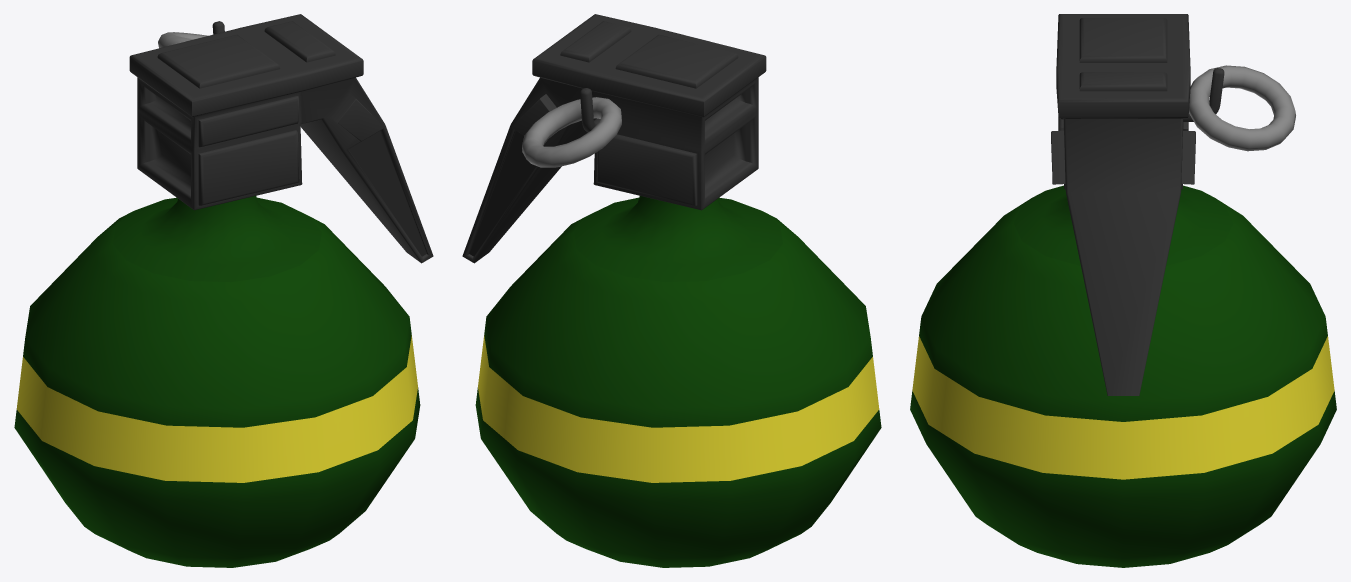
The model's file is nade.fbx.
The picture shows the model from 3 angles, left to right: view 1: azimuth 30°, elevation 25°; view 2: azimuth 150°, elevation 25°; view 3: azimuth 270°, elevation 25°; orthographic projection. The views are drawn at different scales.
Visible parts, largest first — view 1: Cylinder.023; view 2: Cylinder.023; view 3: Cylinder.023.
Part boxes in pixels (bbox=[...]): Cylinder.023: bbox=[14, 14, 433, 567]; Cylinder.023: bbox=[462, 14, 881, 567]; Cylinder.023: bbox=[910, 14, 1336, 567].
Size of the model in its own units: 41.55 by 48.9 by 38.15.
1 material, 1 textured.
